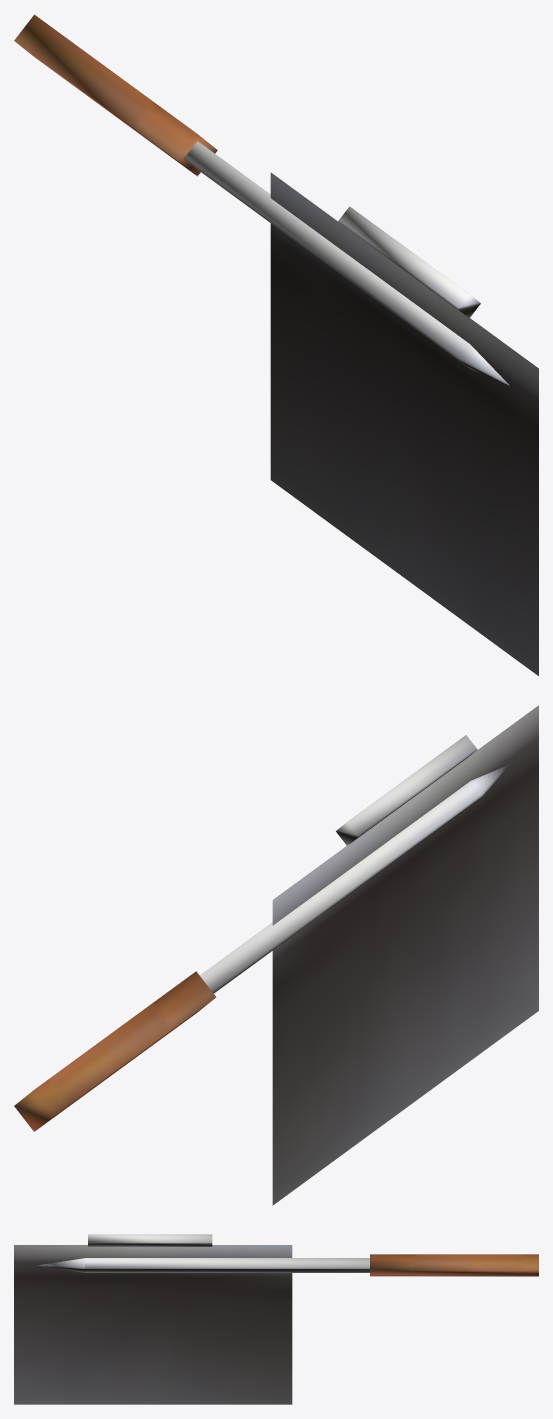
Rendered from jinglingzhifu.fbx.
The picture shows the model from 3 angles, top to bottom: view 1: azimuth 30°, elevation 25°; view 2: azimuth 150°, elevation 25°; view 3: azimuth 270°, elevation 25°; orthographic projection. The views are drawn at different scales.
Parts seen in each view (by area): view 1: Axe06; view 2: Axe06; view 3: Axe06.
Boxes of the visible parts, x1,y1,x2,y2 form: Axe06: [14, 14, 538, 675]; Axe06: [14, 705, 538, 1205]; Axe06: [14, 1234, 538, 1404].
Size of the model in its own units: 14.06 by 109 by 303.
